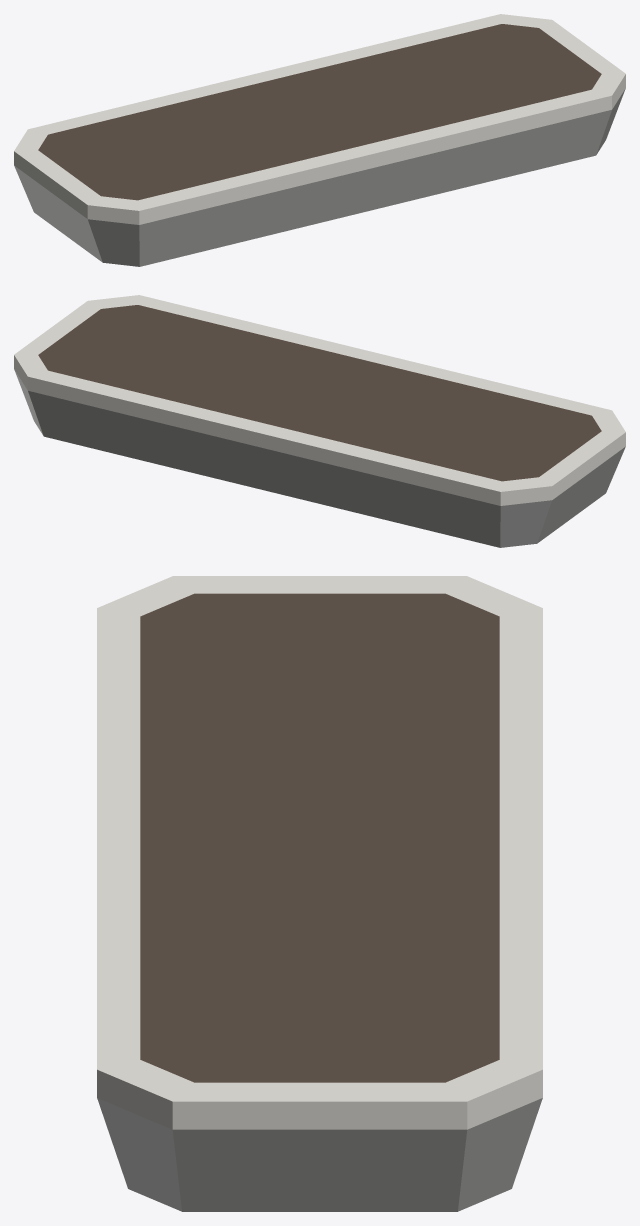
Rendered from PROP_PLANTER_02.glb.
3 renders of one model, top to bottom at view 1: azimuth 30°, elevation 25°; view 2: azimuth 150°, elevation 25°; view 3: azimuth 270°, elevation 25°, orthographic. The views are drawn at different scales.
Visible parts, largest first — view 1: CIVRUM_GAME_PROP_PLANTER_02; view 2: CIVRUM_GAME_PROP_PLANTER_02; view 3: CIVRUM_GAME_PROP_PLANTER_02.
Boxes of the visible parts, x1,y1,x2,y2 form: CIVRUM_GAME_PROP_PLANTER_02: (14, 14, 625, 266); CIVRUM_GAME_PROP_PLANTER_02: (14, 295, 625, 547); CIVRUM_GAME_PROP_PLANTER_02: (97, 576, 542, 1211).
Size of the model in its own units: 4.6 by 0.523 by 1.65.
